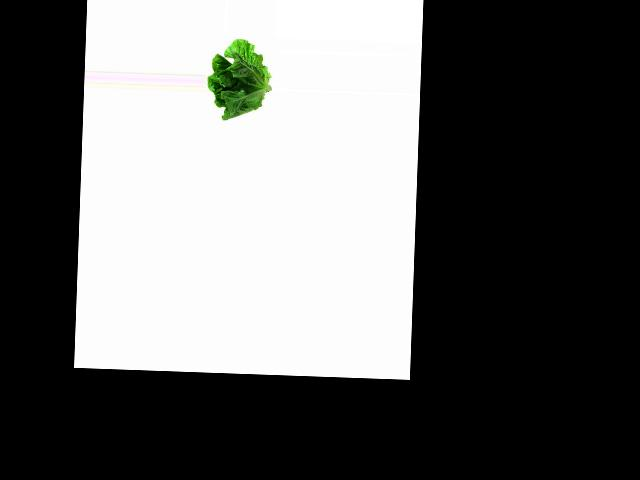lettuce: (206, 38, 270, 123)
